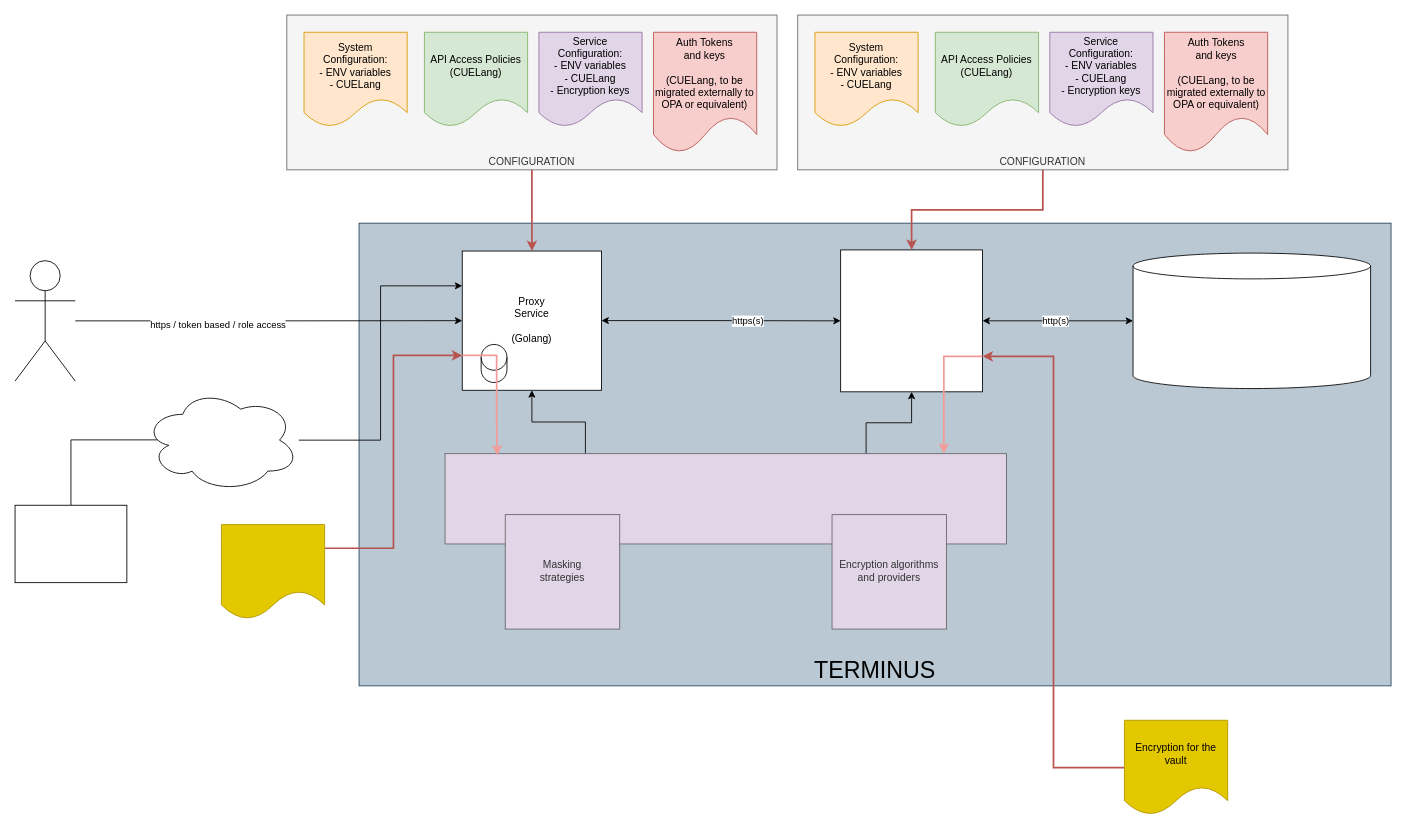
Image size: 1406x830. Some labels were removed from this diagram. Here are the shapes that lost their labels. From the top down, the centre of each, then its label:
At pixel 44 320: "Actor".
At pixel 911 320: "Vault Service (Golang)".
At pixel 1251 320: "Persistence (Data vault)".
At pixel 725 498: "Encryption & Masking SDK (Golang)".
At pixel 70 543: "KMS Service: - External - BYOK".
At pixel 273 571: "Data models, encryption and masking configuration (via UI)".
